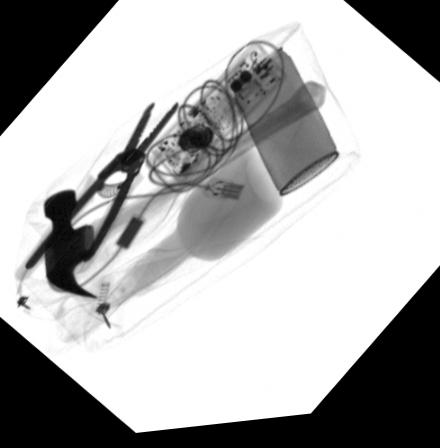Hammer: (42, 88, 328, 298)
Pliers: (17, 104, 176, 281)
